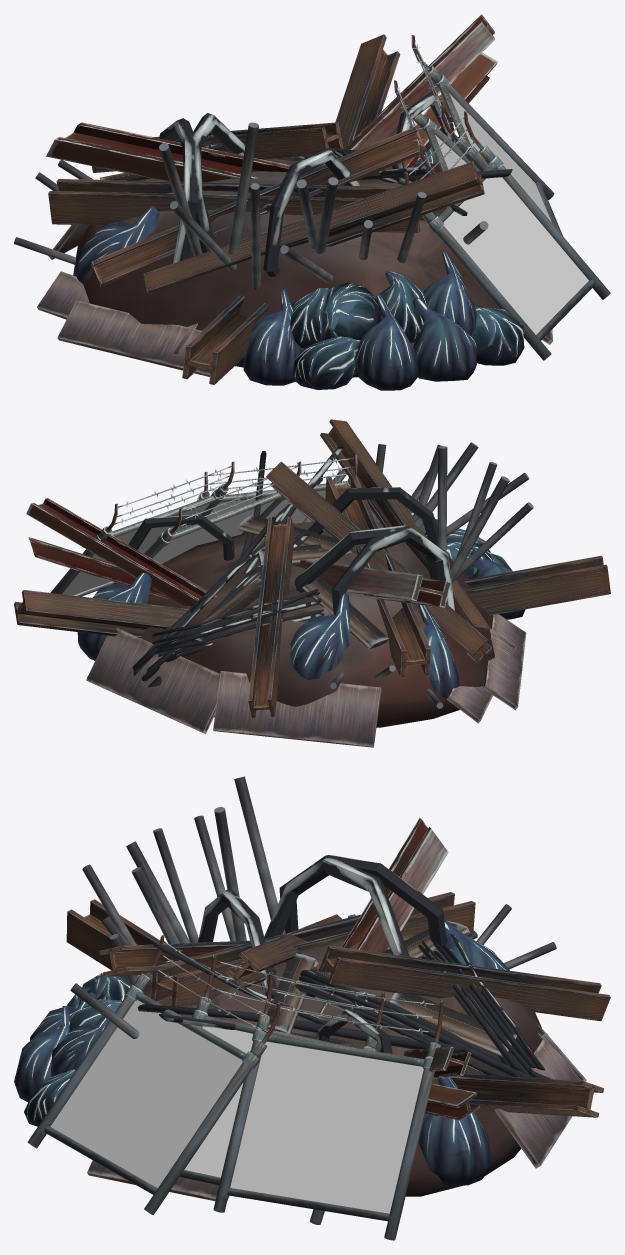
Rendered from metal.fbx.
3 views of the same model, one above another, from view 1: azimuth 30°, elevation 25°; view 2: azimuth 150°, elevation 25°; view 3: azimuth 270°, elevation 25° (orthographic). The views are drawn at different scales.
Visible parts, largest first — view 1: metallolom; view 2: metallolom; view 3: metallolom.
Boxes of the visible parts, box(x1,y1,x2,y2) form: metallolom: box(14, 14, 610, 390); metallolom: box(14, 419, 610, 747); metallolom: box(14, 776, 610, 1240).
Bounding box in the file's own units: 18.84 × 8.15 × 17.68.
